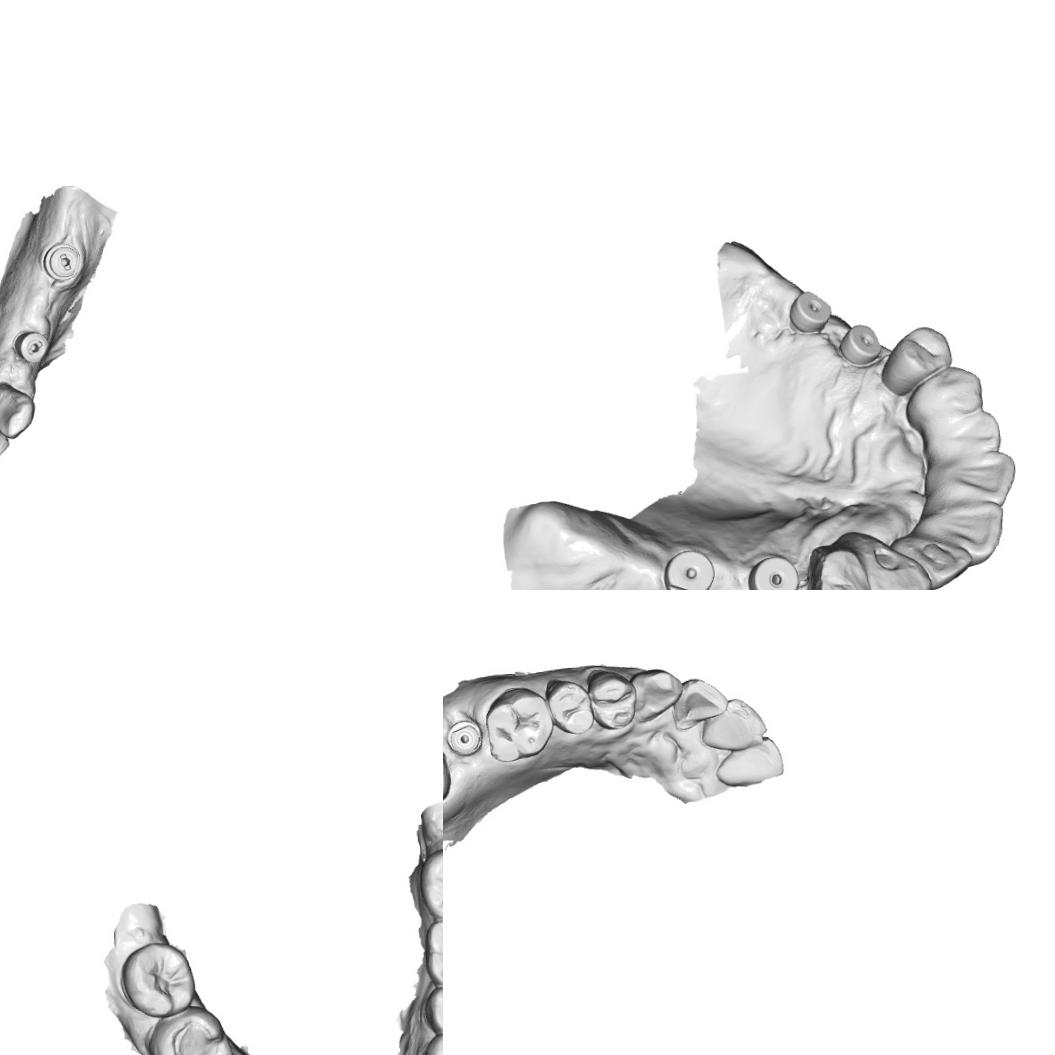canine: (905, 362, 990, 426), (848, 524, 930, 590), (630, 665, 685, 725), (0, 378, 38, 441)
implant: (838, 321, 884, 370), (786, 290, 833, 334), (664, 549, 714, 590), (745, 554, 797, 590), (446, 718, 484, 758)
implant_minus: (39, 241, 83, 283), (11, 328, 51, 366)
incisor: (948, 447, 1018, 510), (696, 696, 768, 754), (938, 501, 1004, 564), (907, 530, 976, 588), (713, 734, 786, 788), (938, 408, 1002, 460), (670, 676, 730, 728), (0, 408, 12, 470)
molar: (116, 940, 196, 1019), (483, 685, 554, 765), (145, 1004, 228, 1055), (416, 843, 443, 921), (422, 915, 443, 990)
premolar: (886, 323, 954, 386), (798, 545, 870, 590), (586, 668, 635, 732), (544, 677, 594, 736), (420, 983, 443, 1038)
